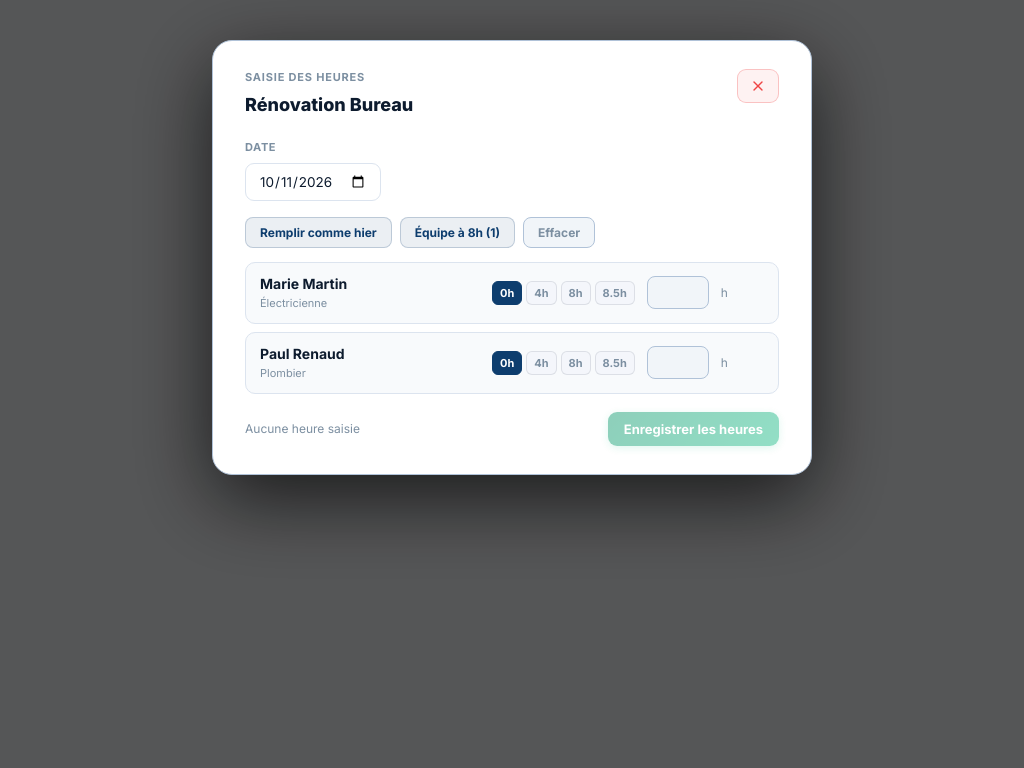
Scenario: ModalSaisieHeures › bouton Effacer remet toutes les heures à 0
Click the button "8h" in the row of "Marie Martin". click: (576, 293)
box: [560, 281, 590, 305]
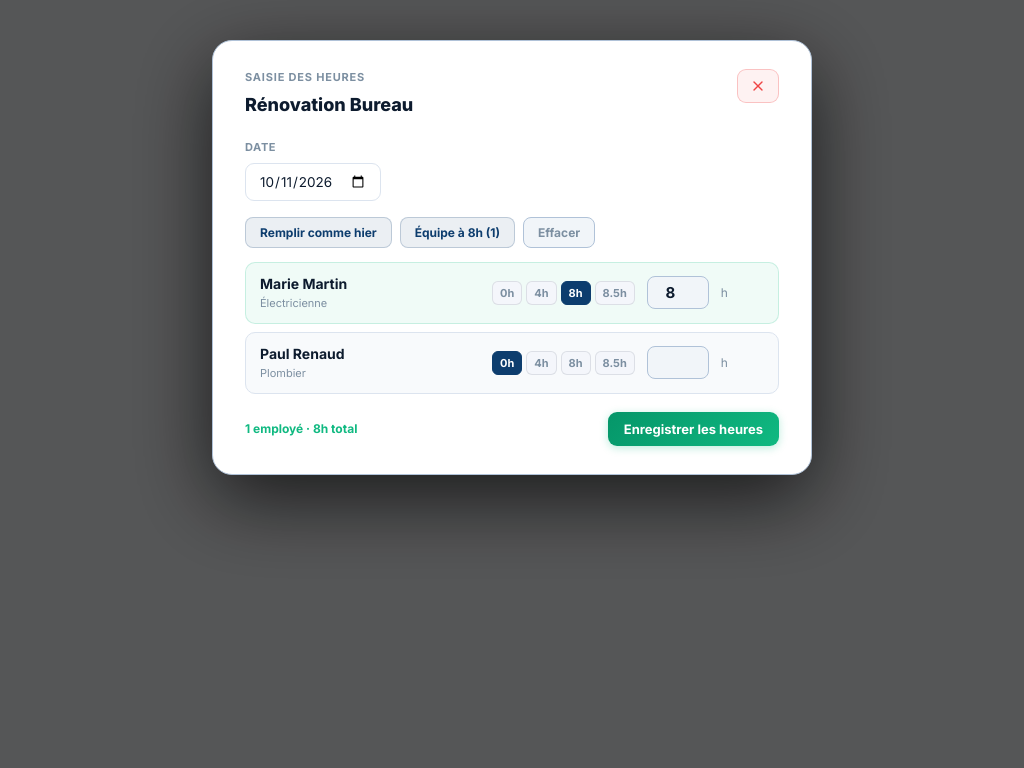
Check: the text "1 employé · 8h total" is shown, box [245, 421, 357, 436]
Click the button "Effacer". click: (559, 232)
box: [523, 217, 595, 248]
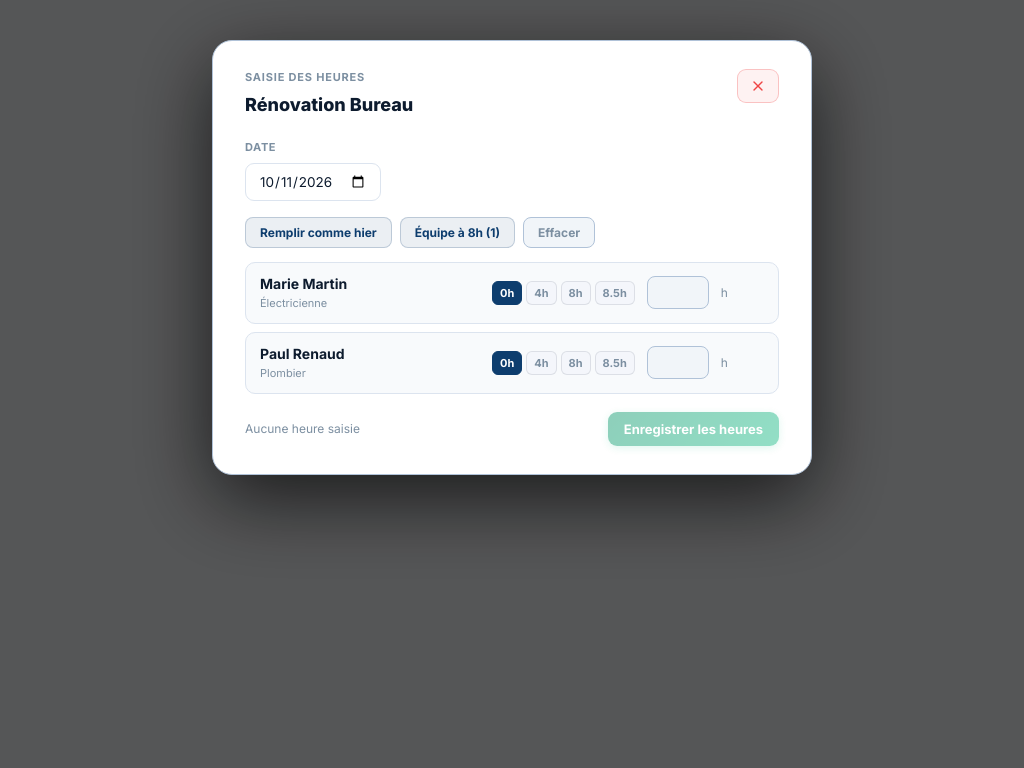
Check: the button "Enregistrer les heures" is disabled, box [608, 412, 779, 446]
